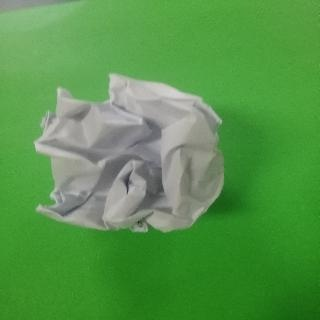8/可回收垃圾/纸: (34, 72, 225, 234)
